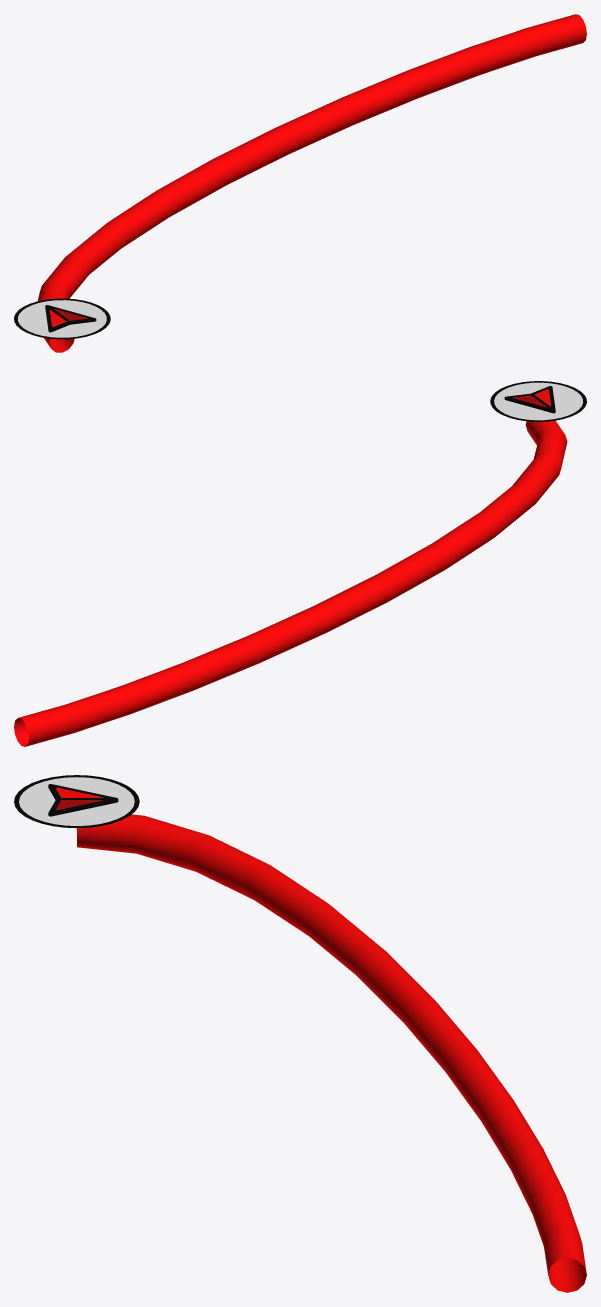
Rendered from route_ac664d1e-04aa-4e14-86ef-81bf70dc9335_de_single.glb.
3 renders of one model, top to bottom at view 1: azimuth 30°, elevation 25°; view 2: azimuth 210°, elevation 25°; view 3: azimuth 270°, elevation 25°, orthographic. The views are drawn at different scales.
Parts seen in each view (by area): view 1: B2, Navipfeil.054; view 2: B2, Navipfeil.054; view 3: B2, Navipfeil.054.
Part boxes in pixels (bbox=[...]): B2: bbox=[38, 14, 586, 352]; Navipfeil.054: bbox=[14, 298, 110, 339]; B2: bbox=[14, 420, 567, 746]; Navipfeil.054: bbox=[490, 381, 586, 421]; B2: bbox=[77, 814, 586, 1292]; Navipfeil.054: bbox=[14, 775, 139, 828].
Bounding box in the file's own units: 2.31 × 0.1062 × 1.18.
